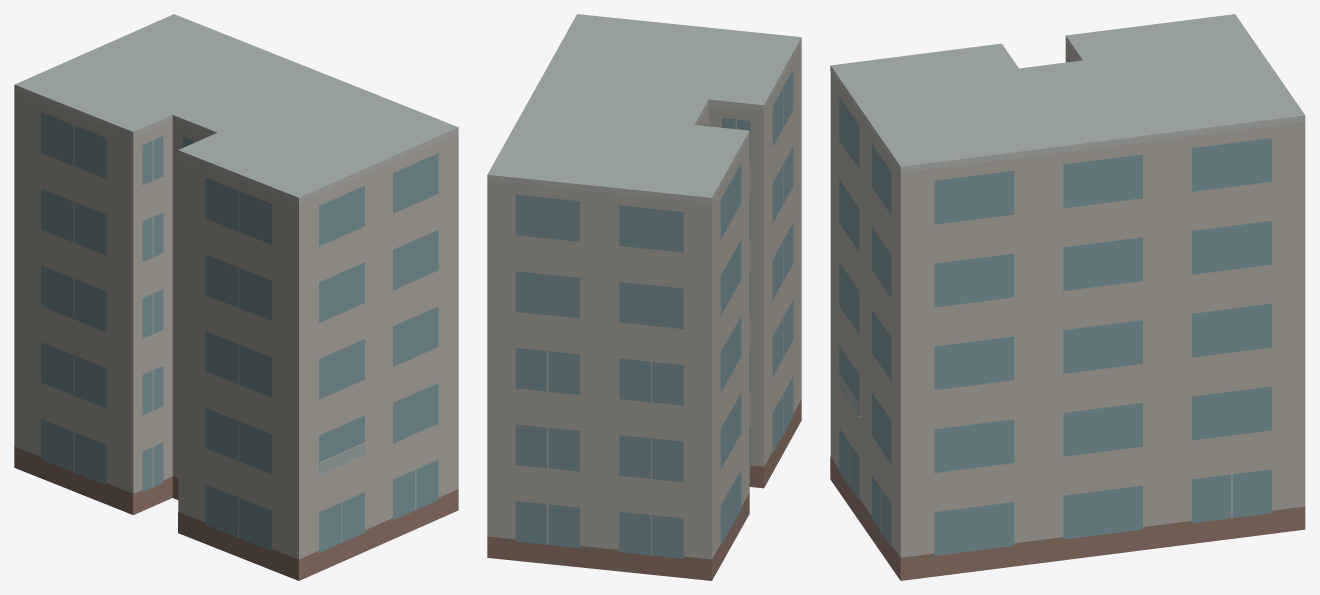
Rendered from survey-upis-32622140.glb.
The picture shows the model from 3 angles, left to right: view 1: azimuth 30°, elevation 25°; view 2: azimuth 150°, elevation 25°; view 3: azimuth 270°, elevation 25°; orthographic projection. The views are drawn at different scales.
Parts seen in each view (by area): view 1: survey-upis-32622140.tmp; view 2: survey-upis-32622140.tmp; view 3: survey-upis-32622140.tmp.
Boxes of the visible parts, x1=… form: survey-upis-32622140.tmp: x1=14, y1=14, x2=458, y2=580; survey-upis-32622140.tmp: x1=487, y1=14, x2=801, y2=580; survey-upis-32622140.tmp: x1=830, y1=14, x2=1305, y2=580.
Bounding box in the file's own units: 13.38 × 16.9 × 17.57.
